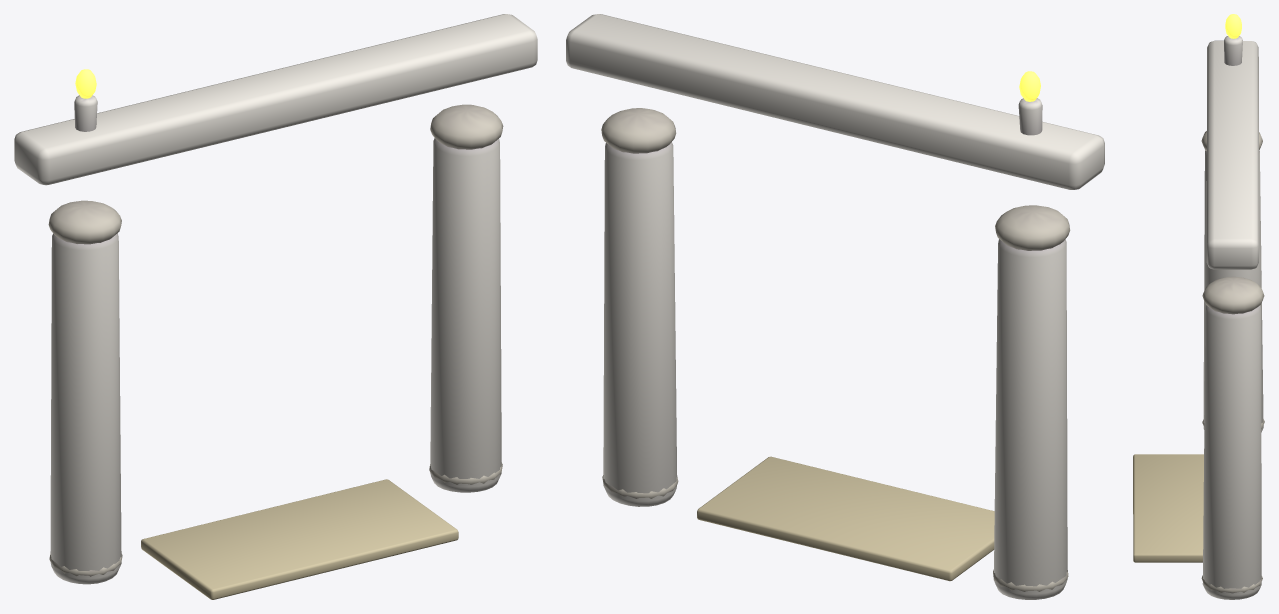
3 renders of one model, left to right at view 1: azimuth 30°, elevation 25°; view 2: azimuth 150°, elevation 25°; view 3: azimuth 270°, elevation 25°, orthographic. The views are drawn at different scales.
Visible parts, largest first — view 1: gate_6a0c3739; view 2: gate_6a0c3739; view 3: gate_6a0c3739.
Boxes of the visible parts, <box> form: gate_6a0c3739: <box>14,14,537,599</box>; gate_6a0c3739: <box>566,14,1104,599</box>; gate_6a0c3739: <box>1133,14,1264,599</box>.
Bounding box in the file's own units: 4.84 × 4.67 × 1.32.
